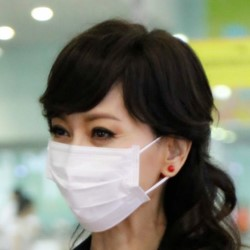mask: (46, 122, 153, 234)
